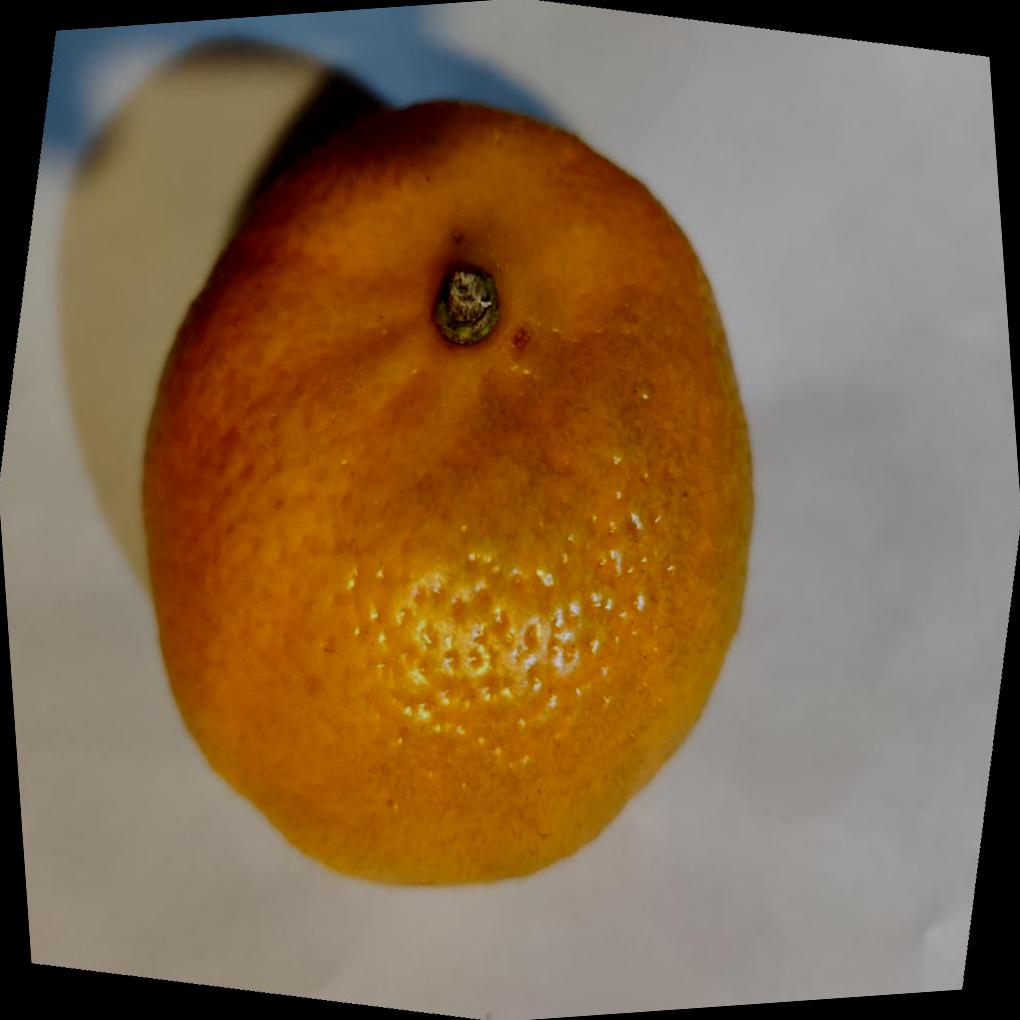FreshGuava: (136, 98, 754, 891)
